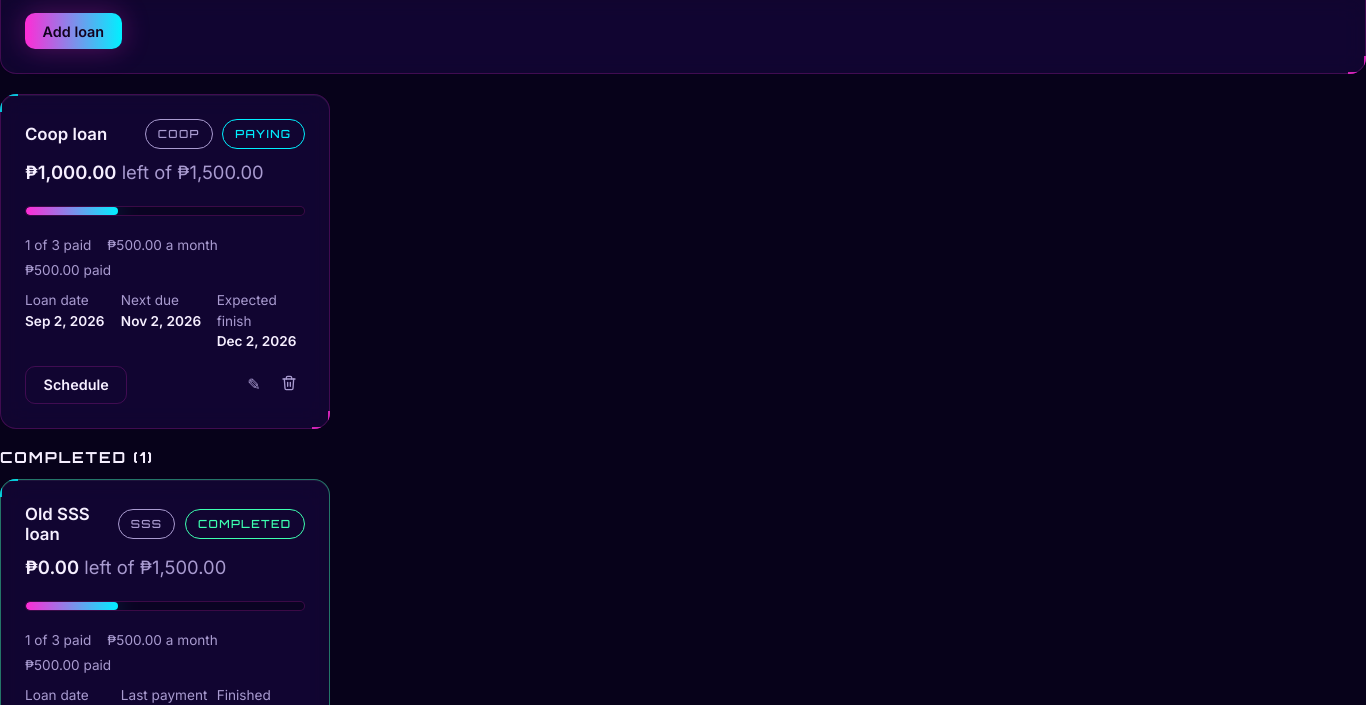
LoansApp › warns before deleting a loan
The width and height of the screenshot is (1366, 705).
(page scrolled)
What coordinates should you click on to do the following:
click the button named "Delete Coop loan"
I would click on:
 (289, 385)
Its box is [274,371,304,399].
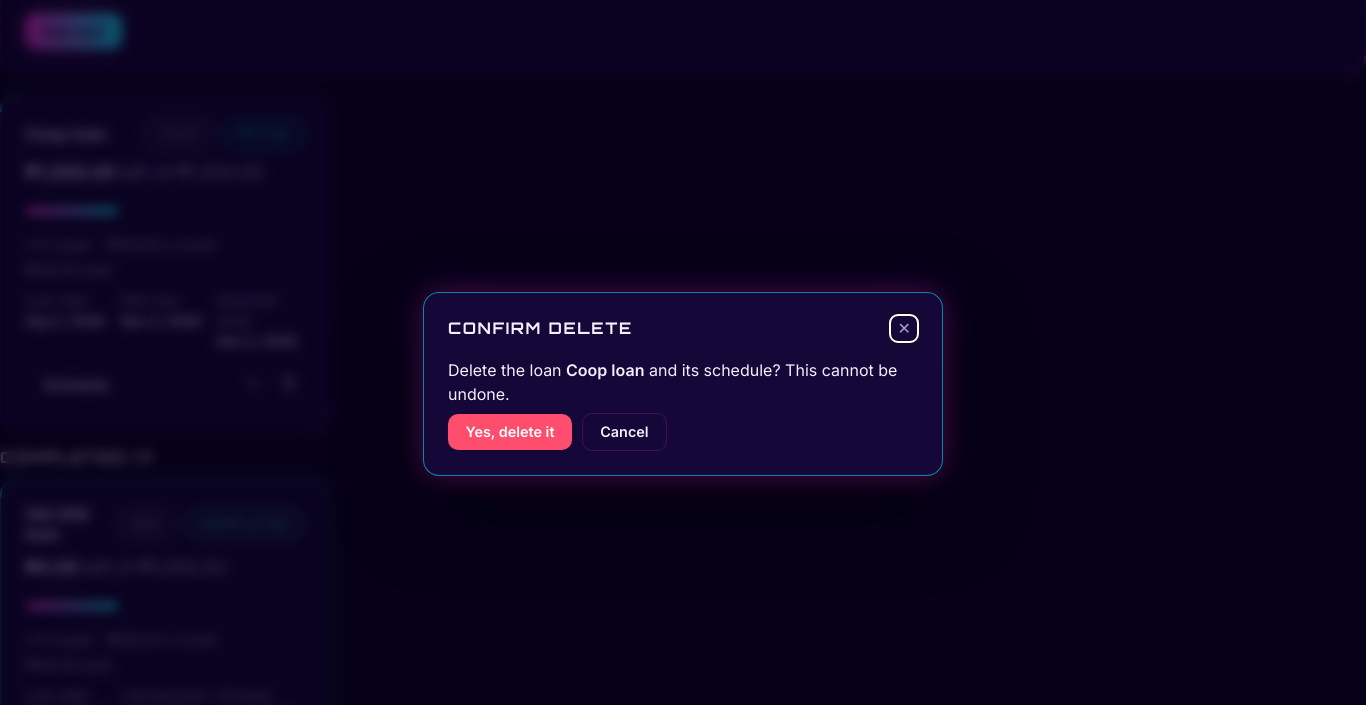
What coordinates should you click on to do the following:
click the button "Yes, delete it"
I would click on:
 (510, 432)
Its box is [448,414,572,450].
(page scrolled)
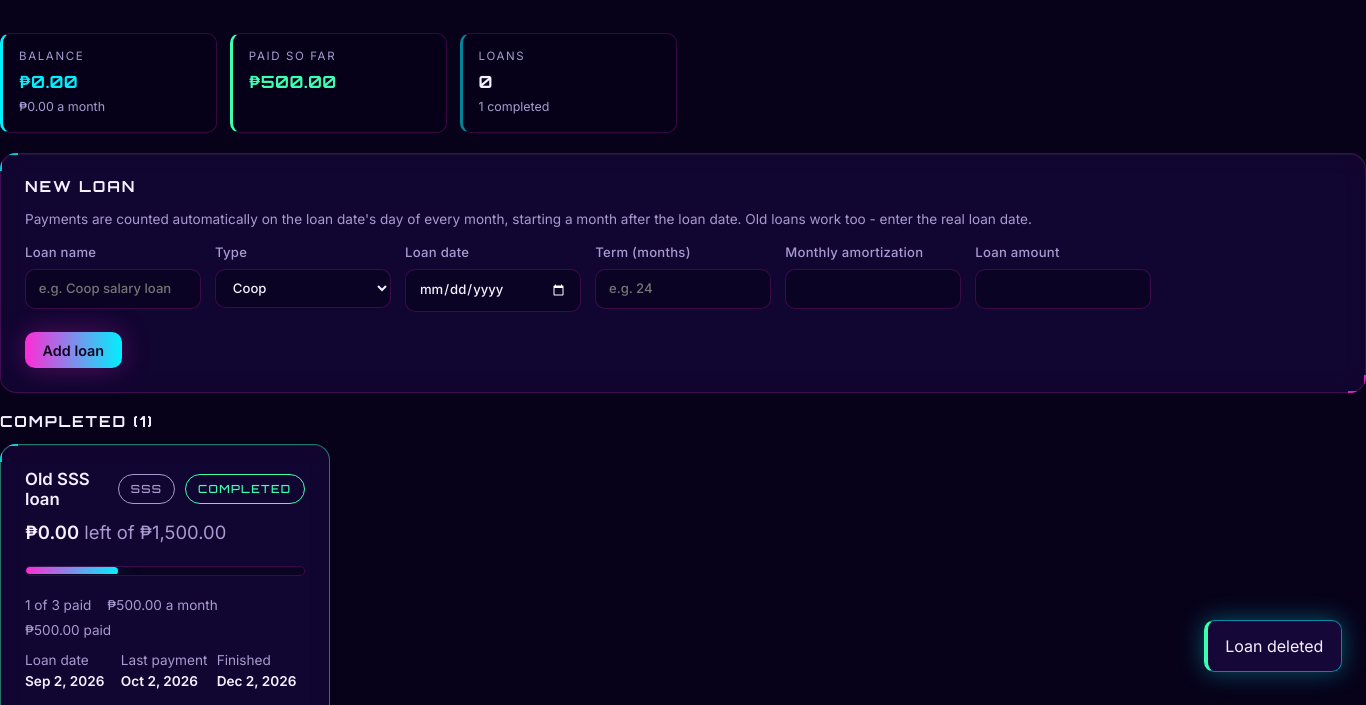
Expected: the heading "Coop loan" is gone
